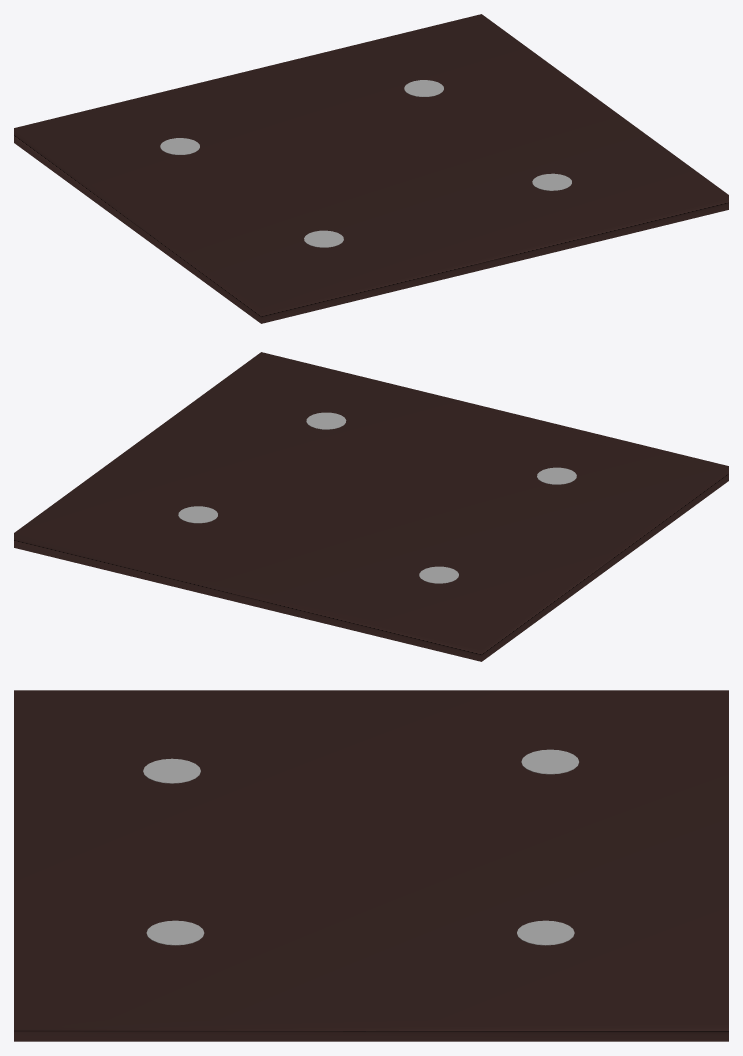
Rendered from lucesplataforma.fbx.
3 renders of one model, top to bottom at view 1: azimuth 30°, elevation 25°; view 2: azimuth 150°, elevation 25°; view 3: azimuth 270°, elevation 25°, orthographic. The views are drawn at different scales.
Parts seen in each view (by area): view 1: pasted__pasted__pasted__pCylinder3; view 2: pasted__pasted__pasted__pCylinder3; view 3: pasted__pasted__pasted__pCylinder3.
Boxes of the visible parts, left/top/right/bottom form: pasted__pasted__pasted__pCylinder3: left=14, top=14, right=728, bottom=323; pasted__pasted__pasted__pCylinder3: left=14, top=352, right=728, bottom=661; pasted__pasted__pasted__pCylinder3: left=14, top=690, right=728, bottom=1041.
Bounding box in the file's own units: 515 × 17.13 × 472.
